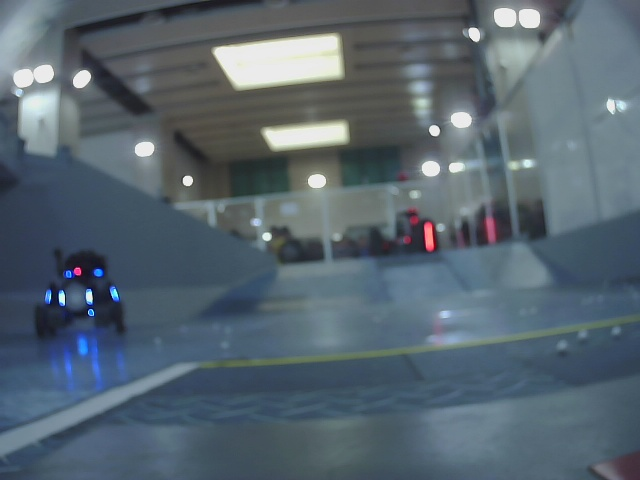lamp: (56, 289, 66, 307), (86, 288, 92, 306)
pair: (58, 288, 93, 305)
